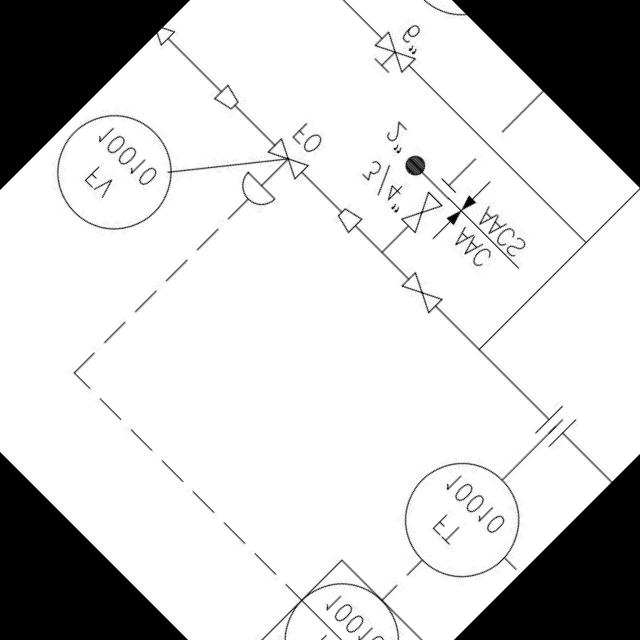FC: (226, 130, 317, 221)
GV: (391, 262, 450, 321), (395, 184, 447, 236)
HV: (361, 26, 420, 84)
SP: (328, 197, 368, 237), (206, 76, 246, 116)
